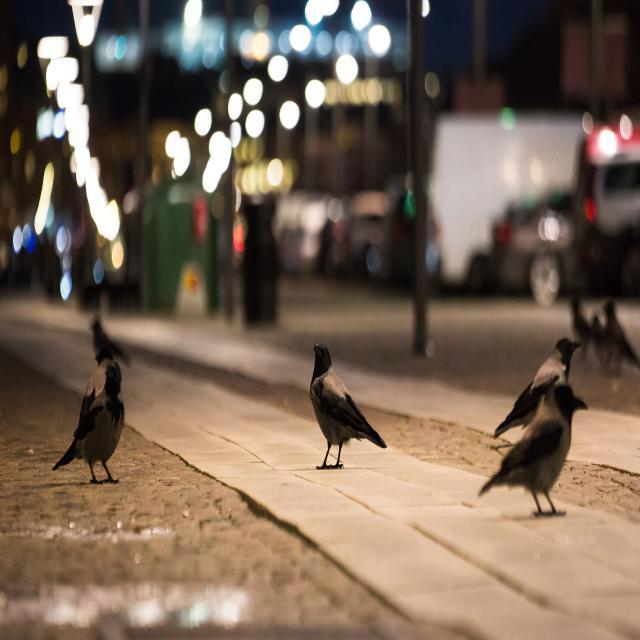bird: (297, 316, 403, 499), (492, 314, 594, 500), (468, 389, 594, 537), (42, 367, 154, 488), (75, 270, 150, 374)
